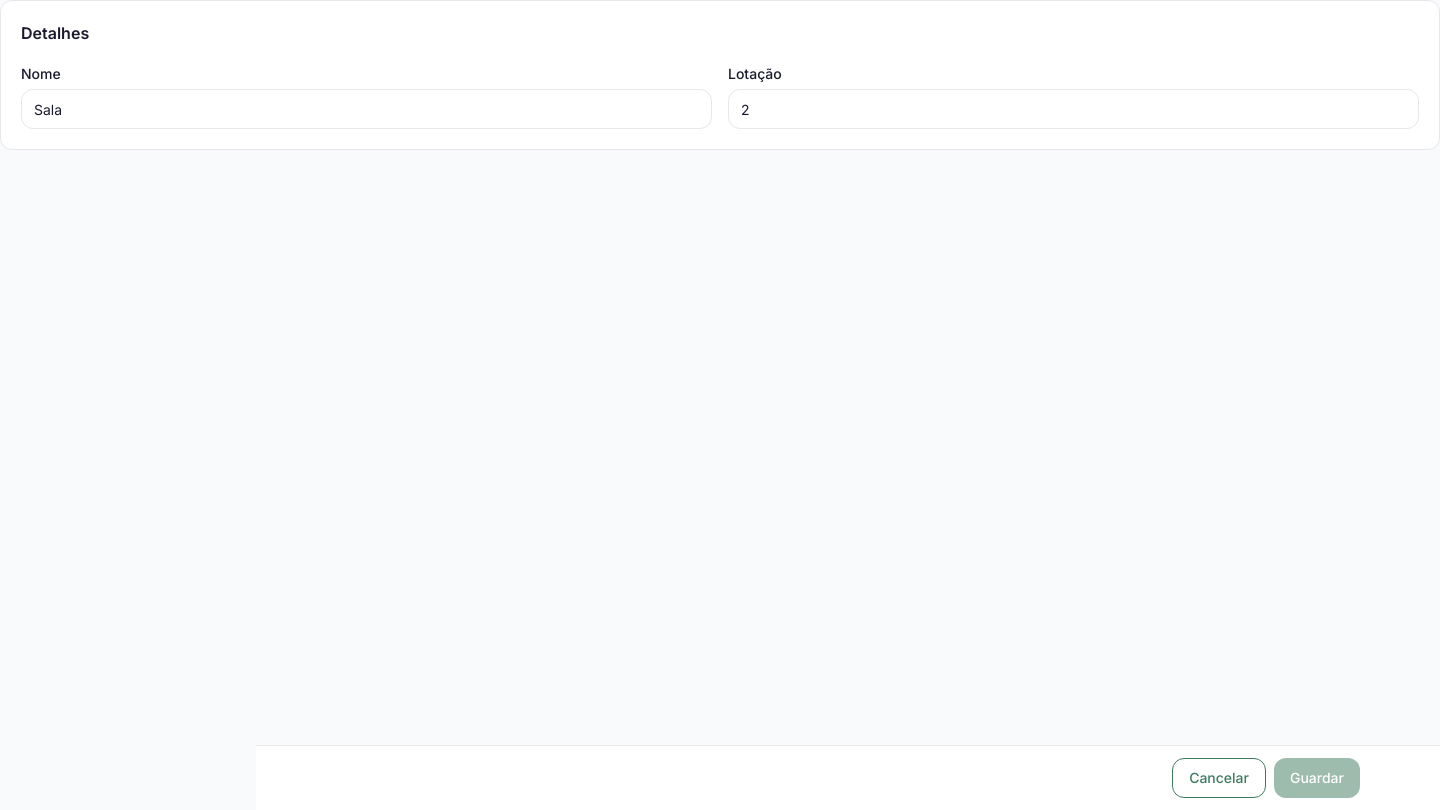
Test: EntityForm › keeps "Guardar" disabled until dirty, saves, toasts and refetches
Expected: the button "Guardar" is disabled, [1274,758,1360,798]
Type " B" into the field labelled "Nome" at (366,109), box [21,89,712,129]
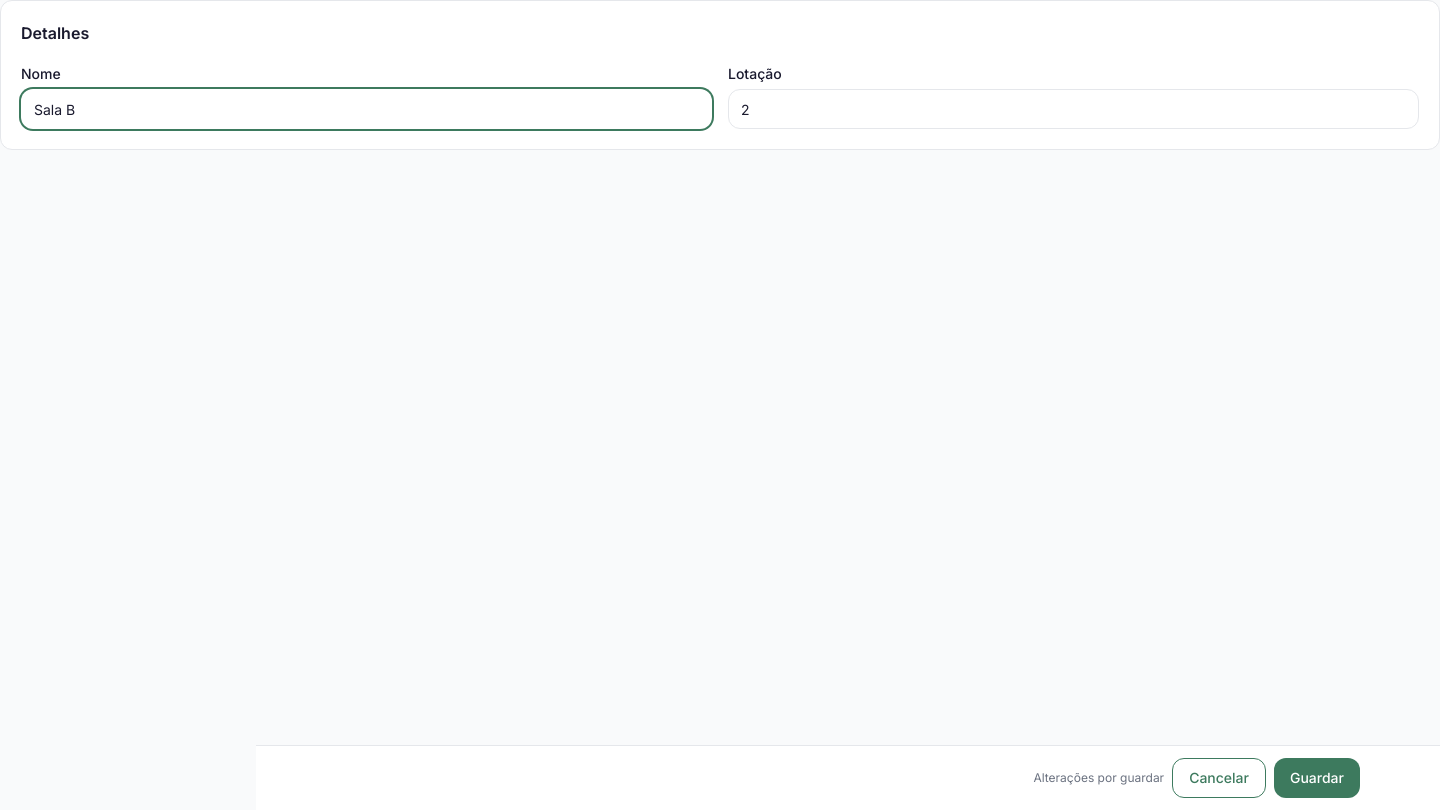
Expected: the button "Guardar" is enabled
Click the button "Guardar" at (1317,778), box [1274,758,1360,798]
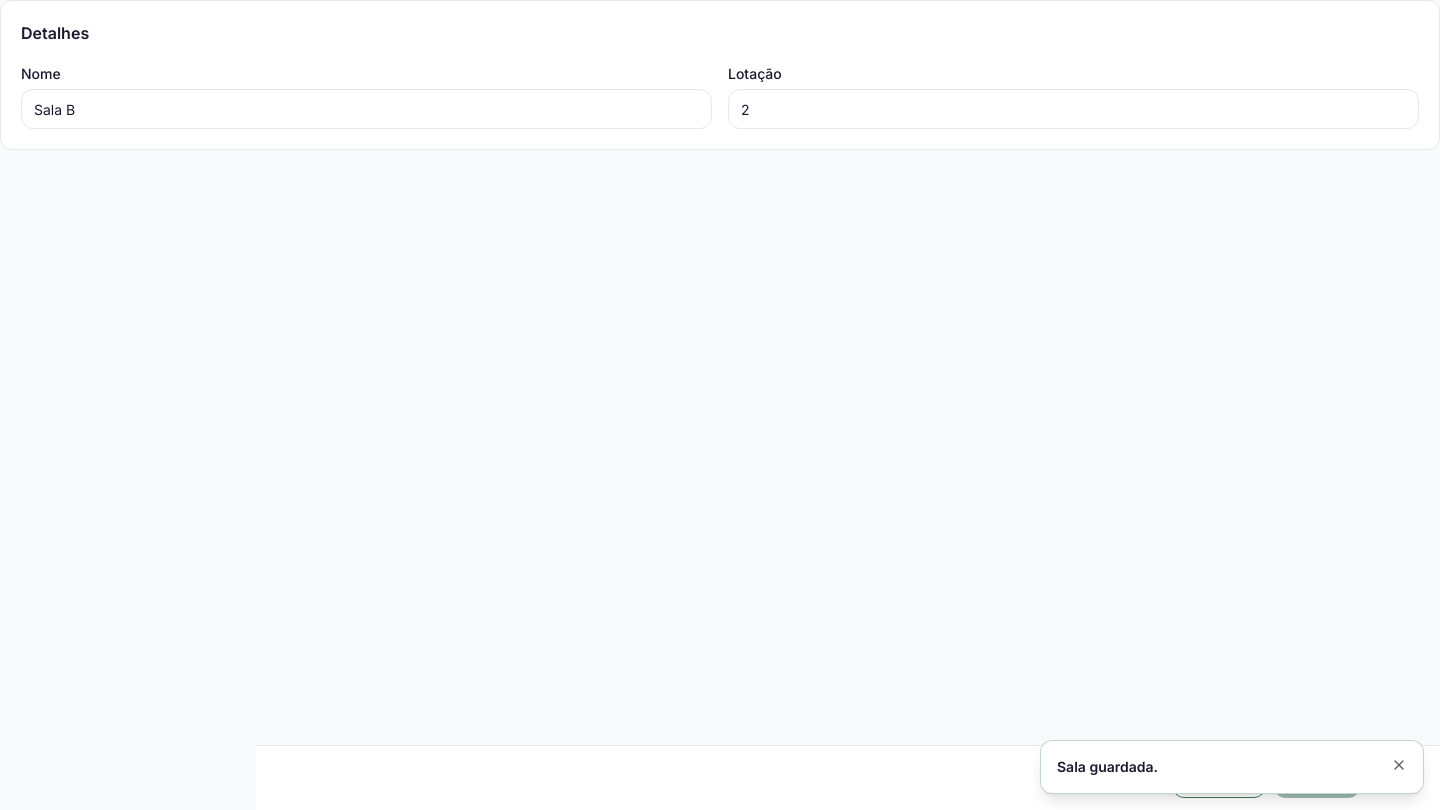
Expected: the text "Sala guardada." is shown, [1057,758,1158,775]
Expected: the button "Guardar" is disabled, [1274,758,1360,798]
